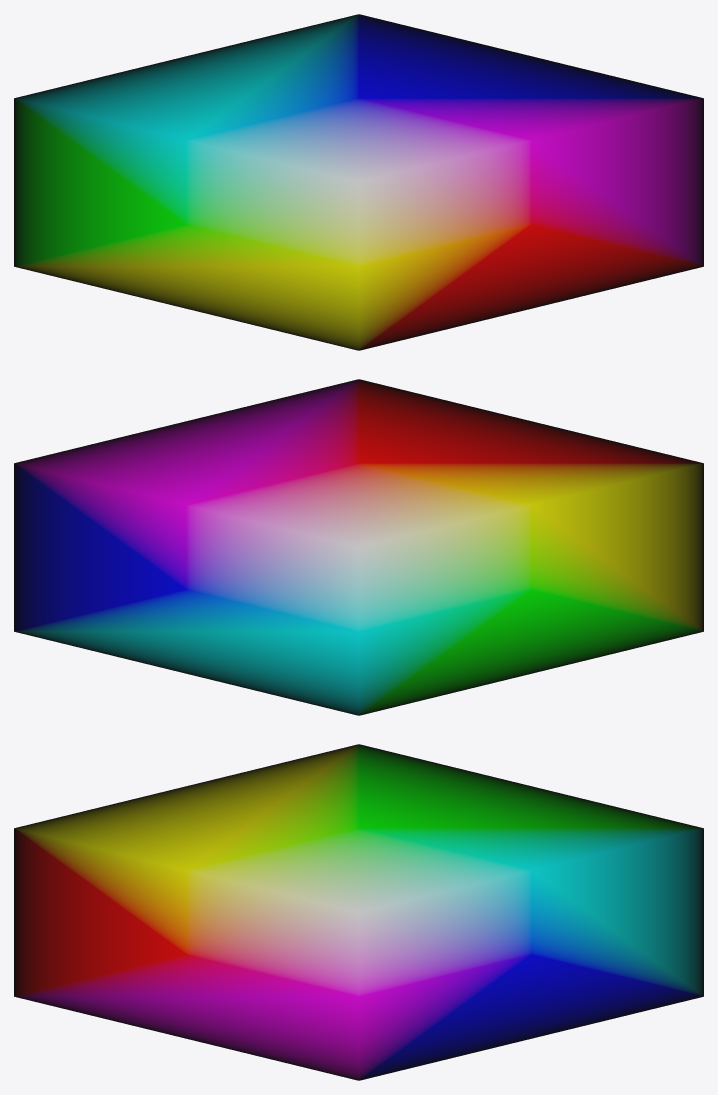
The model's file is vertex_color_hexagon.fbx.
The picture shows the model from 3 angles, top to bottom: view 1: azimuth 30°, elevation 25°; view 2: azimuth 150°, elevation 25°; view 3: azimuth 270°, elevation 25°; orthographic projection.
Visible parts, largest first — view 1: vertex_color_hexagon; view 2: vertex_color_hexagon; view 3: vertex_color_hexagon.
Part boxes in pixels (x1=…): vertex_color_hexagon: x1=14, y1=14, x2=703, y2=350; vertex_color_hexagon: x1=14, y1=379, x2=703, y2=715; vertex_color_hexagon: x1=14, y1=744, x2=703, y2=1080.
Bounding box in the file's own units: 1 × 0 × 0.866.
